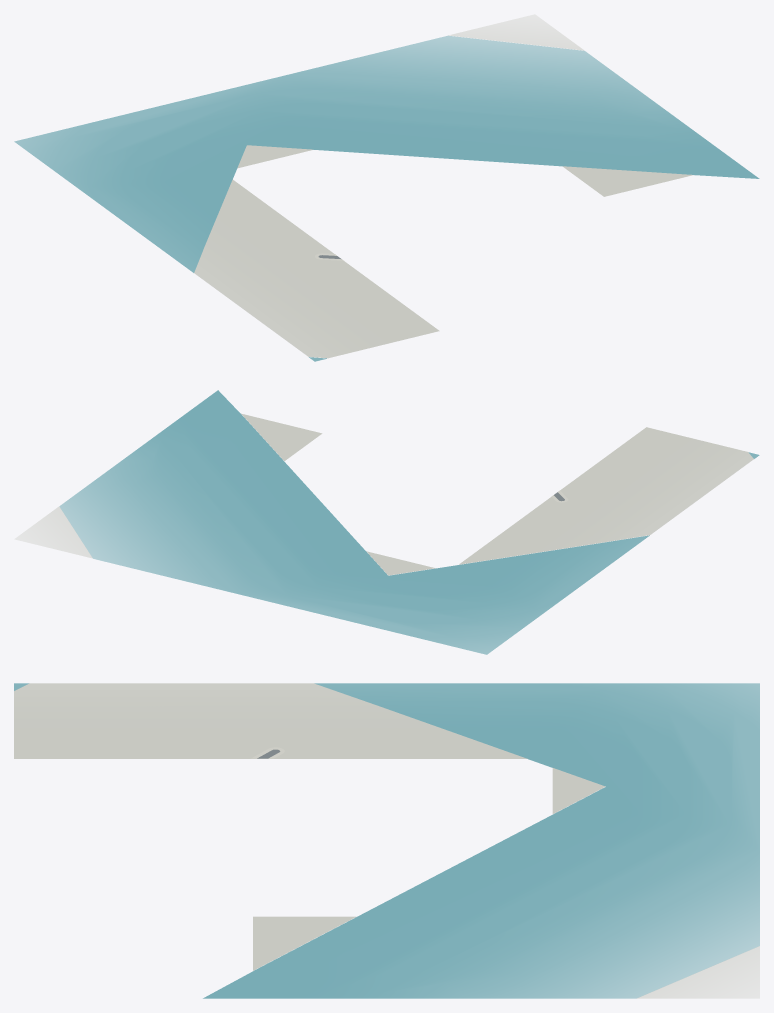
3 renders of one model, top to bottom at view 1: azimuth 30°, elevation 25°; view 2: azimuth 150°, elevation 25°; view 3: azimuth 270°, elevation 25°, orthographic. The views are drawn at different scales.
Parts seen in each view (by area): view 1: city; view 2: city; view 3: city.
Part boxes in pixels (left/top/right/bottom): city: left=14, top=14, right=759, bottom=361; city: left=15, top=390, right=759, bottom=654; city: left=14, top=683, right=759, bottom=998.
Bounding box in the file's own units: 500 × 0.4 × 500.
